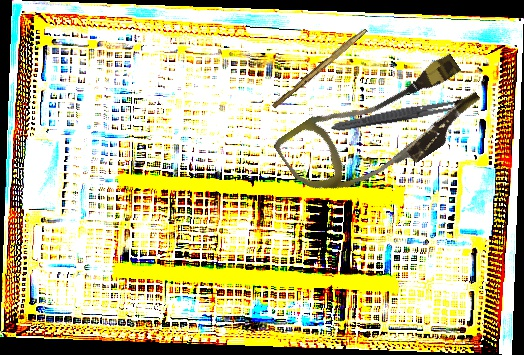Cannula: (271, 32, 491, 225)
Dressing Forceps: (329, 94, 469, 136)
Scalpel Handle: (271, 25, 368, 111)
